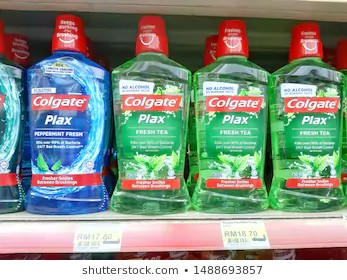colagate-Plax: (21, 11, 107, 217), (108, 16, 192, 215), (268, 19, 346, 210), (192, 18, 267, 210)
